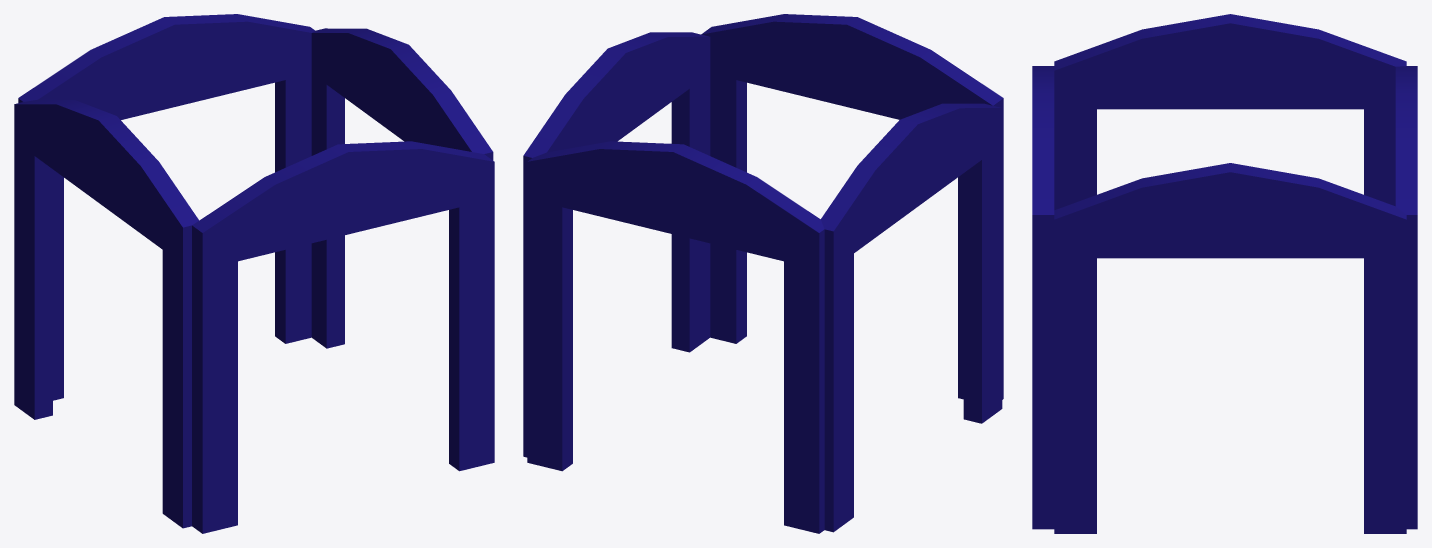
File: Door.fbx
3 renders of one model, left to right at view 1: azimuth 30°, elevation 25°; view 2: azimuth 150°, elevation 25°; view 3: azimuth 270°, elevation 25°, orthographic. The views are drawn at different scales.
Parts seen in each view (by area): view 1: Door; view 2: Door; view 3: Door.
Part boxes in pixels (left/top/right/bottom): Door: left=14, top=14, right=494, bottom=533; Door: left=523, top=14, right=1003, bottom=533; Door: left=1032, top=14, right=1417, bottom=533.
Bounding box in the file's own units: 324 × 345 × 333.
